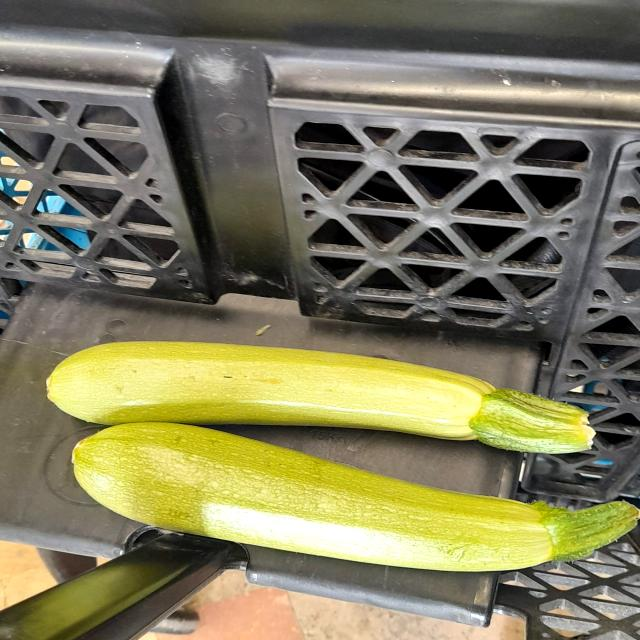zucchini: (68, 416, 640, 572), (40, 326, 609, 454)
